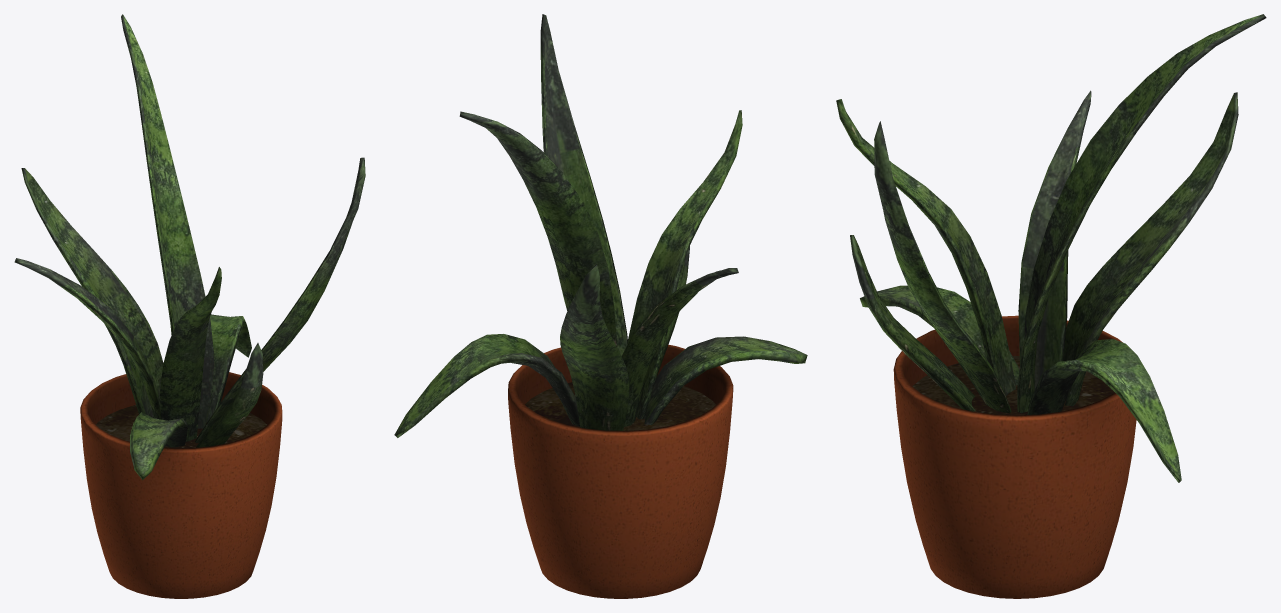
File: plantSansevieria3.gltf
3 renders of one model, left to right at view 1: azimuth 30°, elevation 25°; view 2: azimuth 150°, elevation 25°; view 3: azimuth 270°, elevation 25°, orthographic. The views are drawn at different scales.
Visible parts, largest first — view 1: PlantSansevieria; view 2: PlantSansevieria; view 3: PlantSansevieria.
Part boxes in pixels (box(x1,y1,x2,y2)): PlantSansevieria: box(14, 14, 365, 598); PlantSansevieria: box(394, 14, 807, 598); PlantSansevieria: box(836, 14, 1266, 598).
Bounding box in the file's own units: 0.2905 × 0.48 × 0.3269.
Materials: 1 (1 with a texture image).
